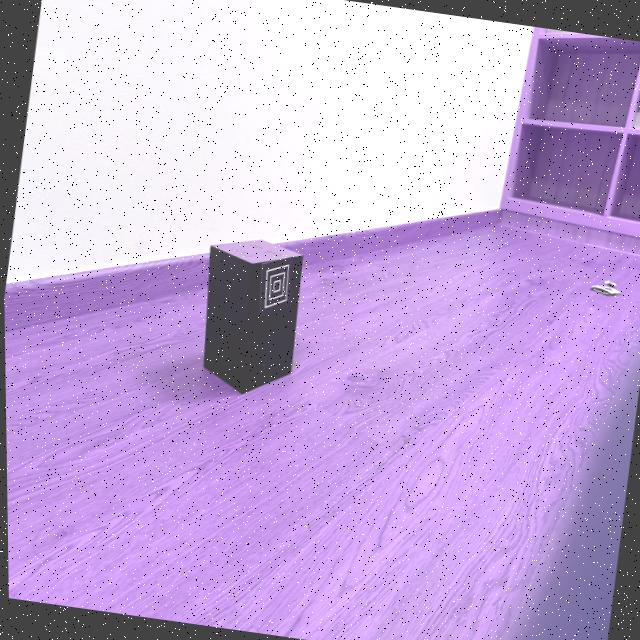BULLSEYE: (259, 256, 293, 317)
